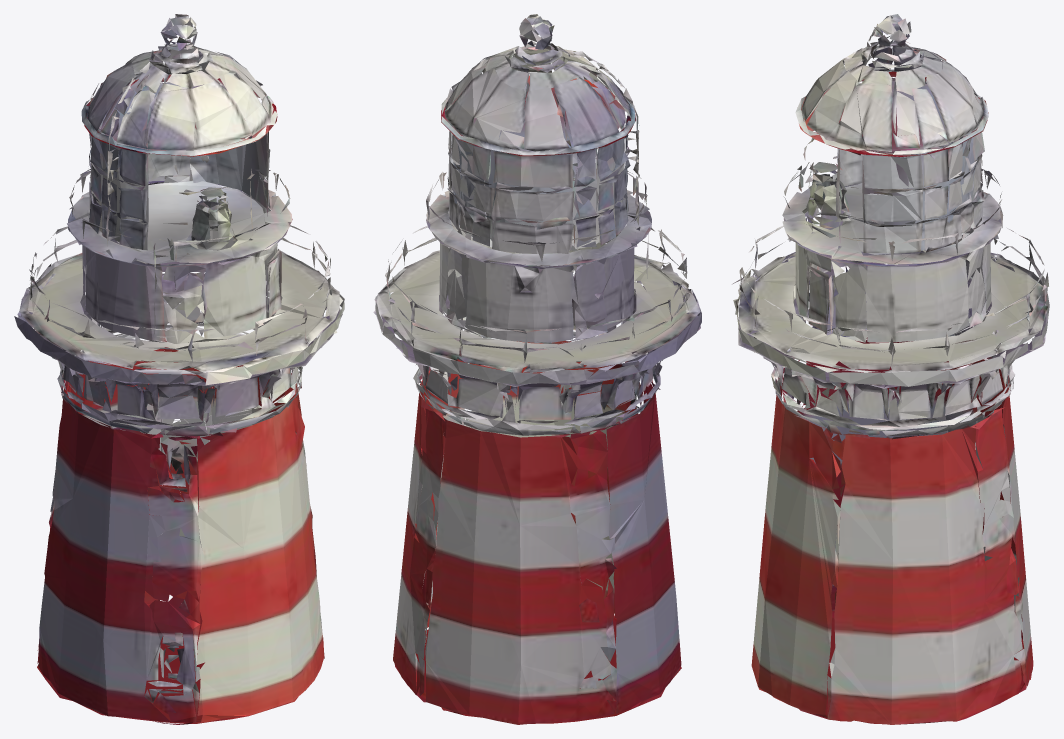
The model's file is lighthouse.glb.
The picture shows the model from 3 angles, left to right: view 1: azimuth 30°, elevation 25°; view 2: azimuth 150°, elevation 25°; view 3: azimuth 270°, elevation 25°; orthographic projection.
Parts seen in each view (by area): view 1: world; view 2: world; view 3: world.
Part boxes in pixels (left/top/right/bottom): world: left=14, top=14, right=344, bottom=724; world: left=373, top=14, right=701, bottom=724; world: left=732, top=14, right=1049, bottom=724.
Size of the model in its own units: 0.8547 by 1.92 by 0.8513.
Materials: 1 (1 with a texture image).
